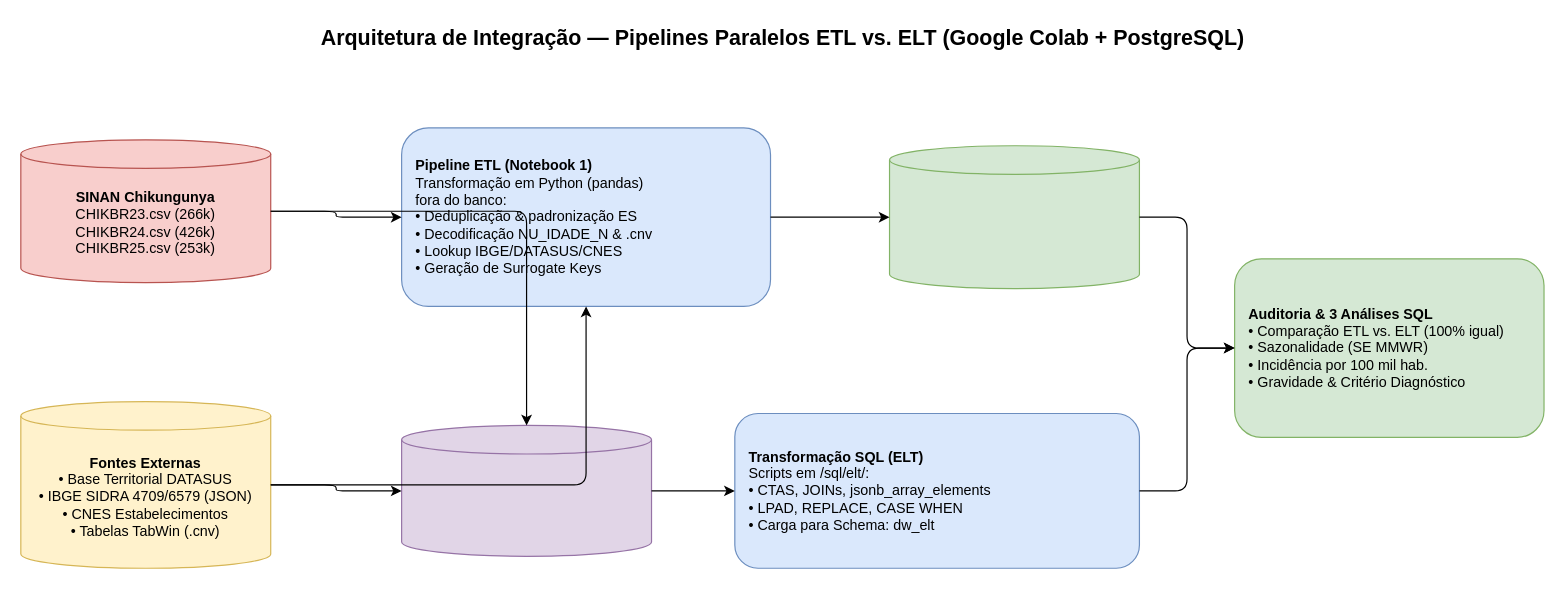
The diagram is 1565 pixels wide and 589 high, and some of its shapes have lost their labels. The shapes that lost their labels are listed below. From the top down, each one's centre as x and y in pixels, then its label:
At pixel 1013 217: "PostgreSQL Schema: dw_etl (Esquema Estrela pronto)".
At pixel 526 490: "PostgreSQL — Staging Schema: stg_elt Carga bruta (text / jsonb)".
